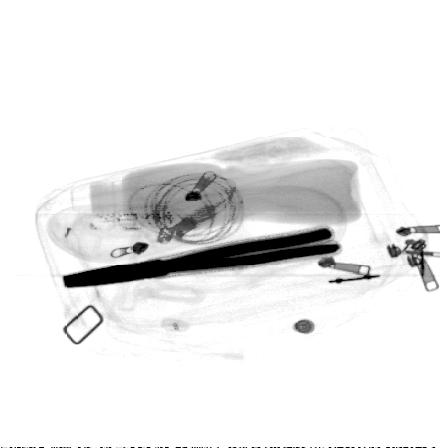Pliers: (62, 224, 344, 288)
